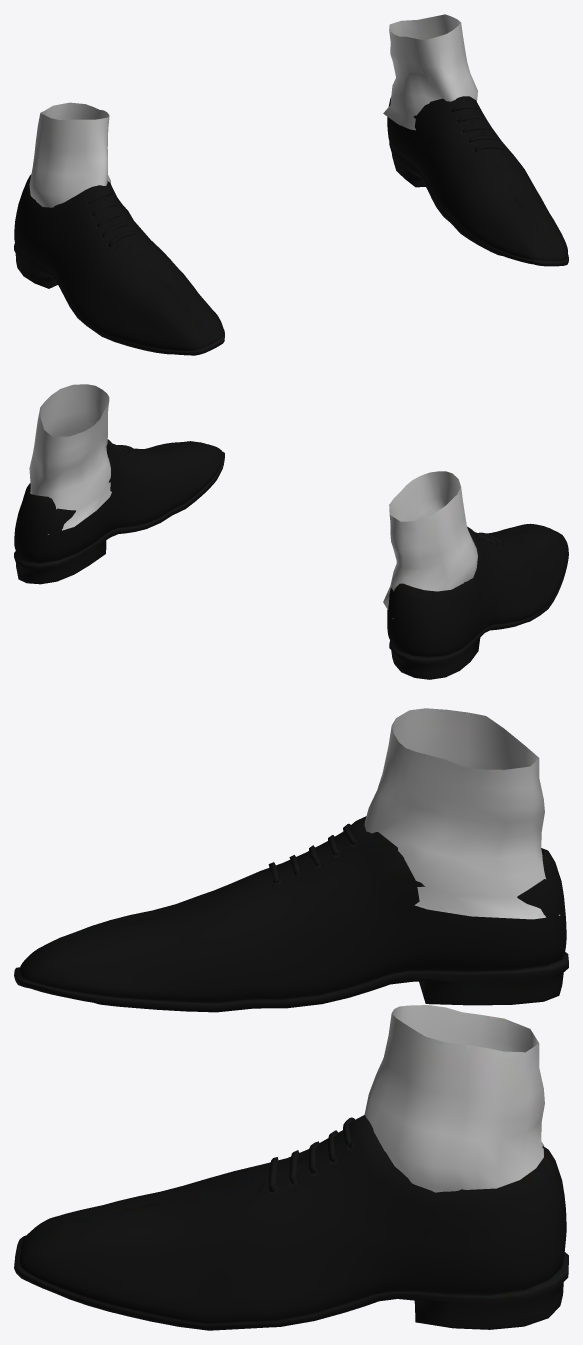
The model's file is mindfront-shoes-oxford-female.glb.
3 renders of one model, top to bottom at view 1: azimuth 30°, elevation 25°; view 2: azimuth 150°, elevation 25°; view 3: azimuth 270°, elevation 25°, orthographic. The views are drawn at different scales.
Visible parts, largest first — view 1: Human.mindfront_shoes_oxford_female; view 2: Human.mindfront_shoes_oxford_female; view 3: Human.mindfront_shoes_oxford_female.
Part boxes in pixels (x1,y1,x2,y2): Human.mindfront_shoes_oxford_female: [14, 14, 568, 355]; Human.mindfront_shoes_oxford_female: [14, 384, 568, 679]; Human.mindfront_shoes_oxford_female: [14, 708, 568, 1330].
Size of the model in its own units: 0.5356 by 0.1894 by 0.3366.
1 material, 1 textured.
